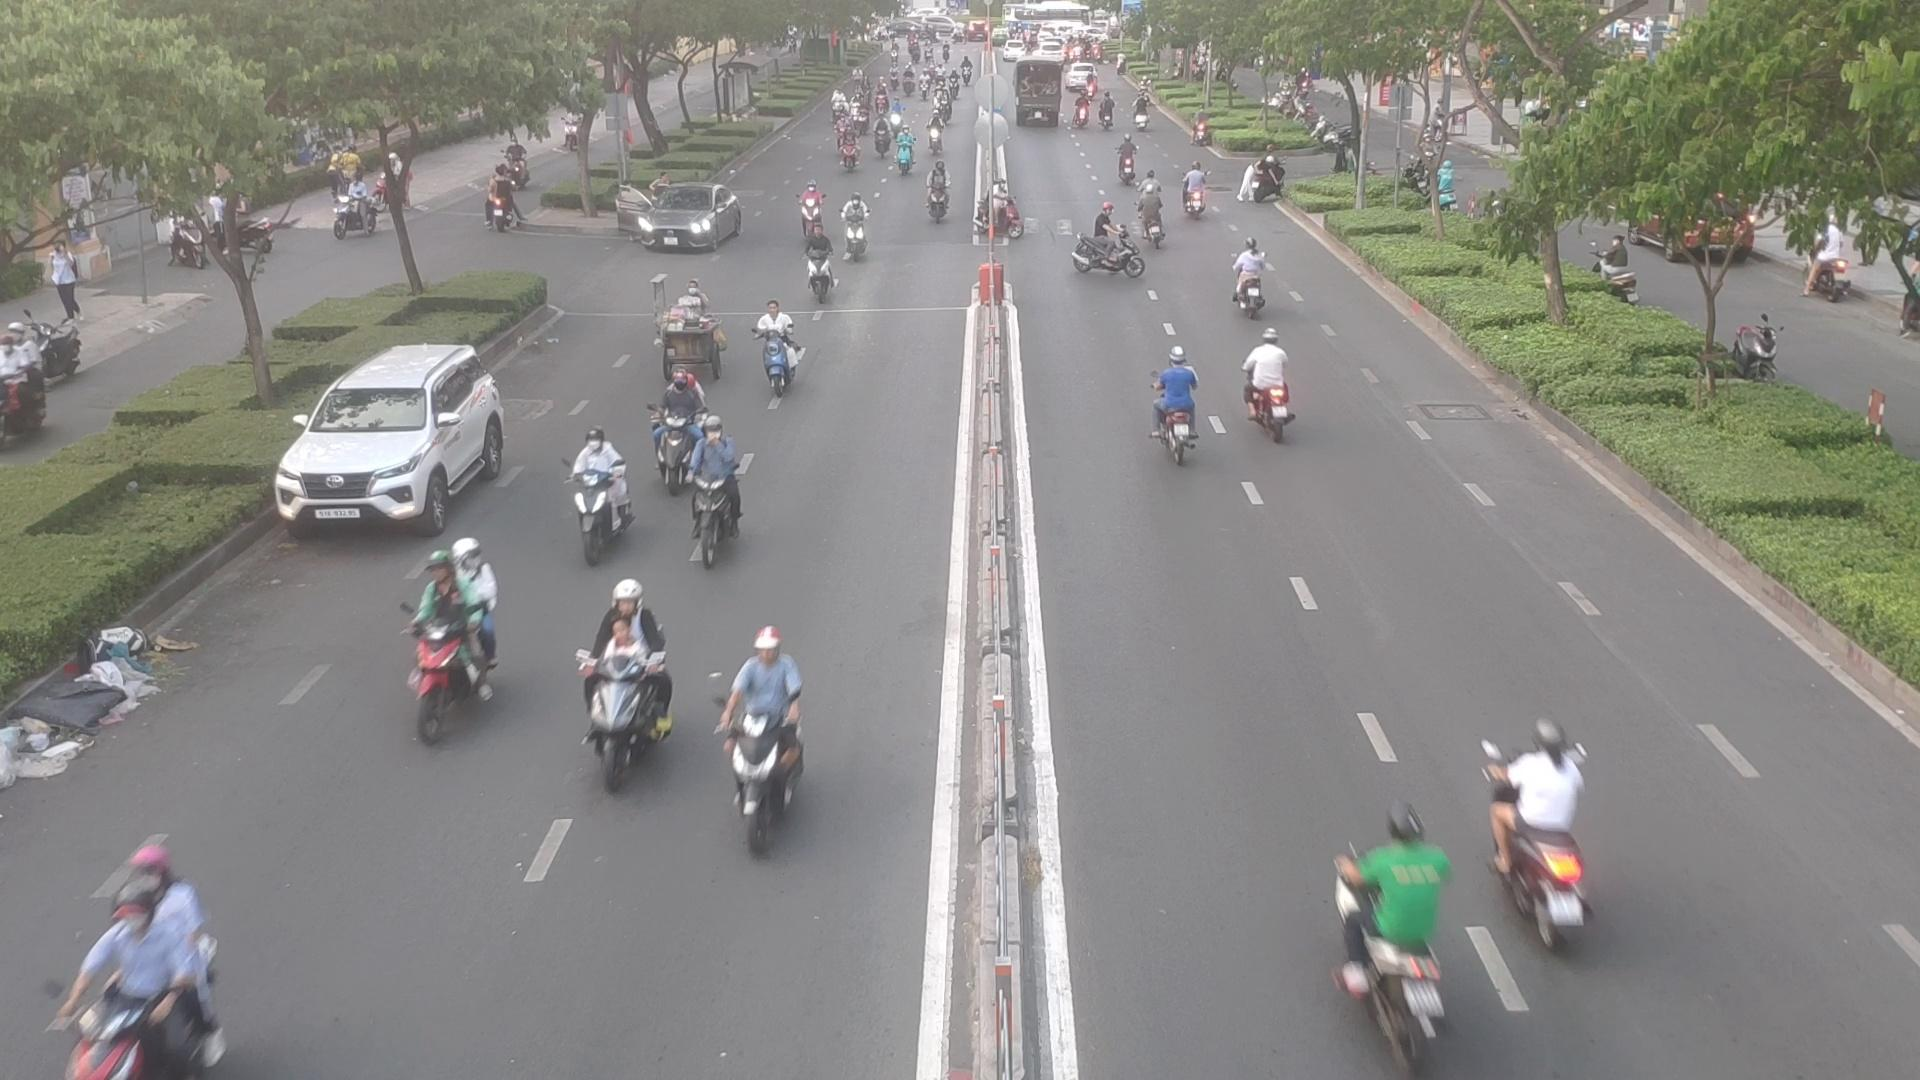car: (272, 343, 512, 535), (620, 186, 750, 258)
motorbike: (73, 843, 224, 1080), (1480, 698, 1597, 951), (1338, 807, 1449, 1056), (731, 617, 804, 847), (583, 657, 679, 786), (410, 618, 502, 746), (566, 421, 629, 553), (651, 369, 709, 491), (703, 410, 744, 579), (1069, 214, 1145, 290), (1241, 328, 1294, 436), (1159, 345, 1207, 458), (750, 291, 800, 375), (1226, 233, 1276, 311), (794, 237, 840, 301), (1134, 181, 1174, 244), (837, 189, 874, 255), (791, 177, 822, 240), (1180, 156, 1207, 223), (836, 117, 866, 173), (924, 160, 951, 219), (1120, 131, 1143, 187), (894, 131, 914, 190)
